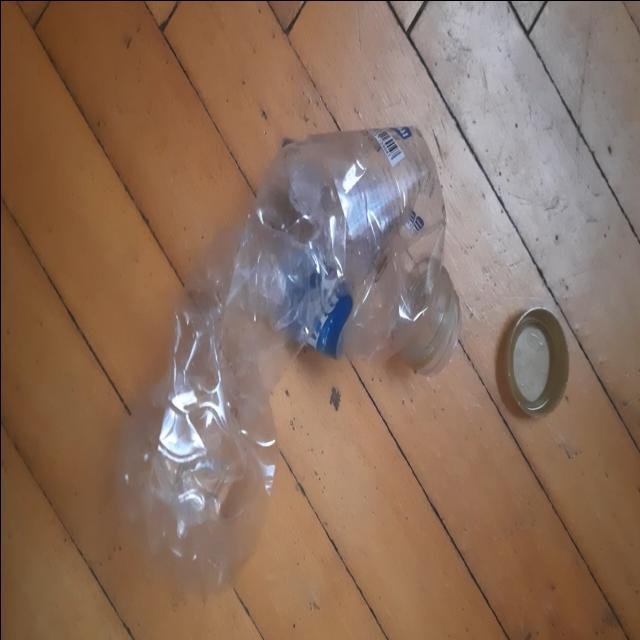Plastic: (121, 124, 453, 596)
